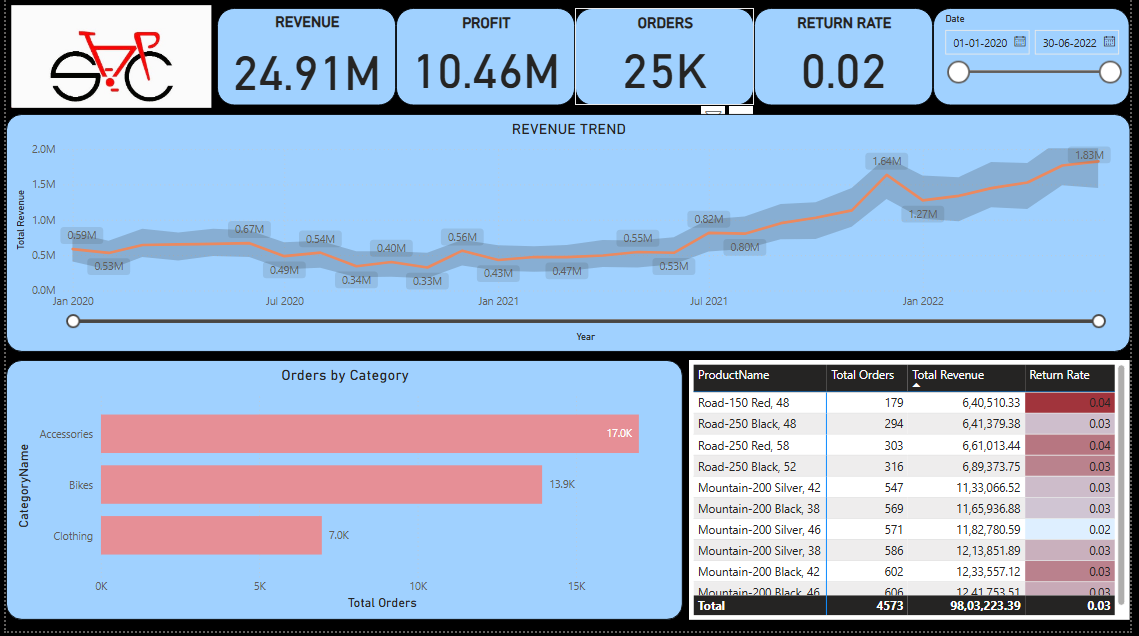

The page's visual inventory and layout, read from the dashboard file:
{"tool":"powerbi","page":{"name":"Page 2","canvas":[1280,720],"ordinal":1},"visuals":[{"type":"card","title":"REVENUE","fields":{"Values":["Measure Table.Total Revenue"]},"box":[240.4,10.3,203.9,110.5],"z":0},{"type":"card","title":"PROFIT","fields":{"Values":["Measure Table.Profit"]},"box":[444.3,10.3,203.9,110.5],"z":1000},{"type":"card","title":"ORDERS","fields":{"Values":["Measure Table.Total Orders"]},"box":[648.2,10.3,203.9,110.5],"z":2000},{"type":"card","title":"RETURN RATE","fields":{"Values":["Measure Table.Return Rate"]},"box":[852.2,10.3,203.9,110.5],"z":3000},{"type":"lineChart","title":"REVENUE TREND","fields":{"Y":["Measure Table.Total Revenue"],"Category":["Calendar Lookup.Start of Month.Variation.Date Hierarchy.Year","Calendar Lookup.Start of Month.Variation.Date Hierarchy.Quarter","Calendar Lookup.Start of Month.Variation.Date Hierarchy.Month","Calendar Lookup.Start of Month.Variation.Date Hierarchy.Day"]},"box":[0,131,1280.5,271.1],"z":4000},{"type":"image","box":[0,0,240.4,131],"z":5000},{"type":"pivotTable","fields":{"Rows":["Product Lookup.ProductName"],"Values":["Measure Table.Total Orders","Measure Table.Total Revenue","Measure Table.Return Rate"]},"box":[778.1,411.3,502.4,296.2],"z":6000},{"type":"clusteredBarChart","title":"Orders by Category","fields":{"Category":["Product Categories Lookup.CategoryName"],"Y":["Measure Table.Total Orders"]},"box":[0,411.3,771.3,296.2],"z":7000},{"type":"slicer","fields":{"Values":["Calendar Lookup.Date"]},"box":[1056.1,10.3,224.4,110.5],"z":8000}]}

Visuals, with their boxes in screenshot pixels (x1, y1, x2, y2), scaled from the page's 1280x720 canvas onto the 1139x636 screenshot:
"REVENUE" card: [214, 9, 395, 107]
"PROFIT" card: [395, 9, 577, 107]
"ORDERS" card: [577, 9, 758, 107]
"RETURN RATE" card: [758, 9, 940, 107]
"REVENUE TREND" lineChart: [0, 116, 1138, 355]
image: [0, 0, 214, 116]
pivotTable - Product Lookup.ProductName x Measure Table.Total Orders: [692, 363, 1138, 625]
"Orders by Category" clusteredBarChart: [0, 363, 686, 625]
slicer - Calendar Lookup.Date: [940, 9, 1138, 107]
